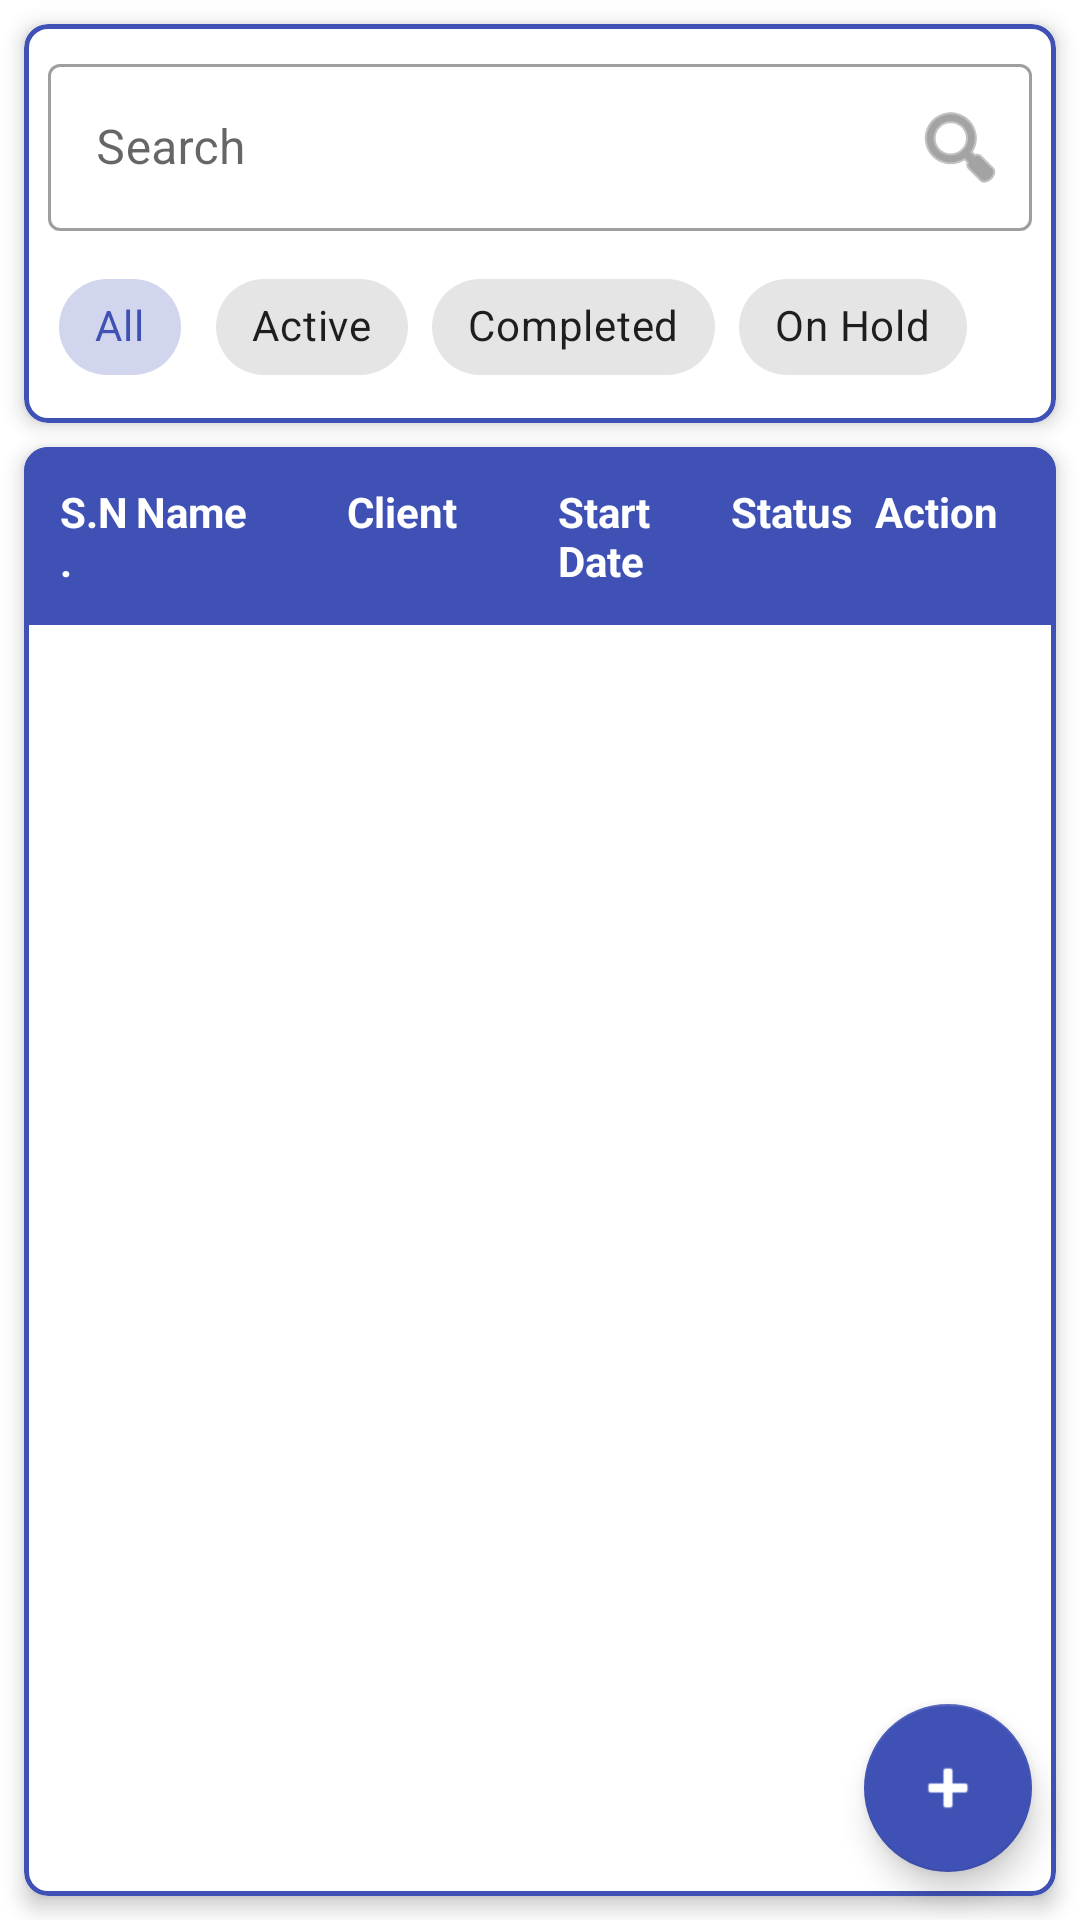

Icon bounding boxes for this 1080×1920 phone screenshot, format (x1, y1, x2, y2):
Add Site: (864, 1704, 1032, 1872)
